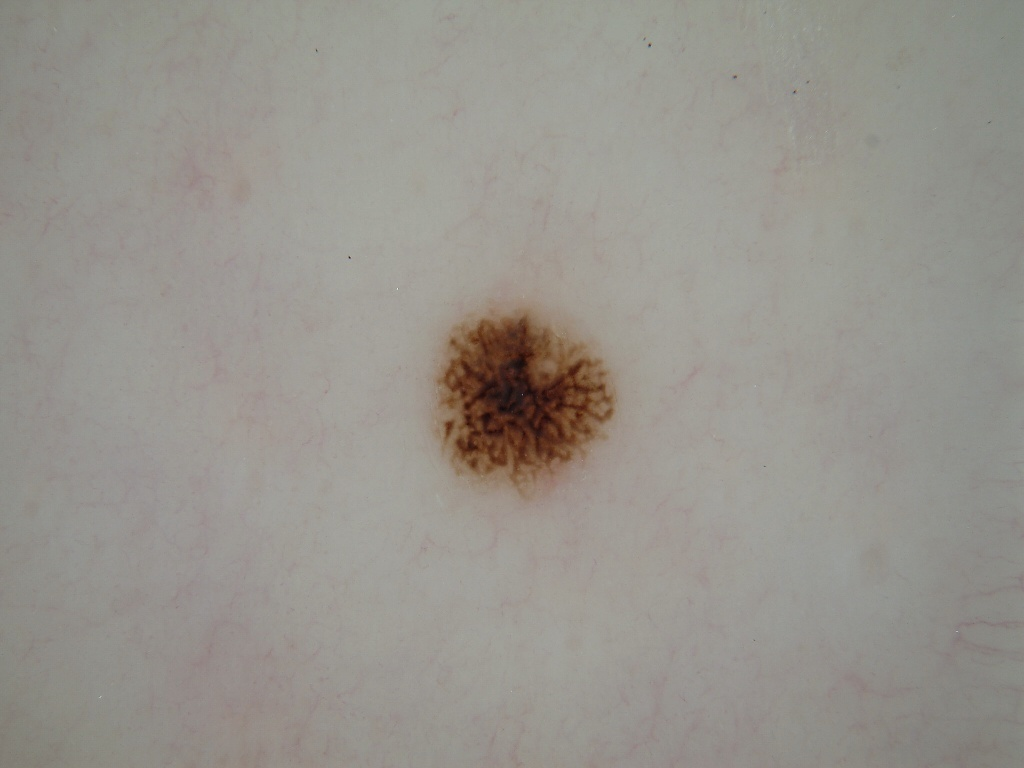Detected Lesion: (427, 307, 620, 501)
